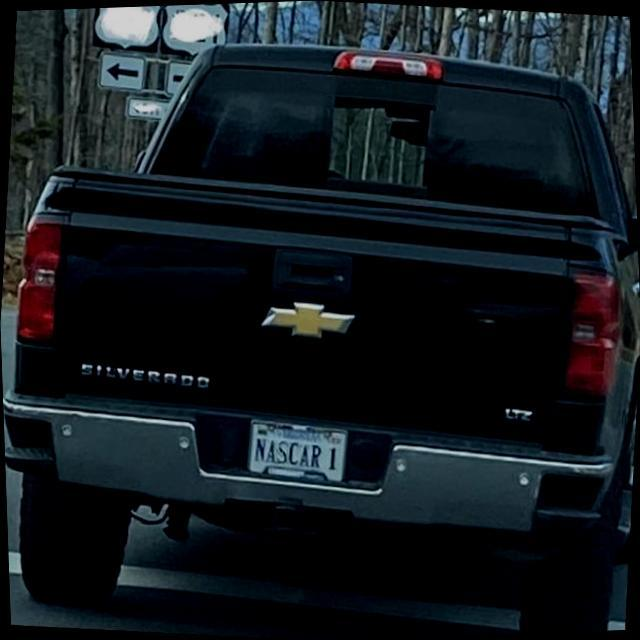LicensePlate: (243, 416, 348, 482)
